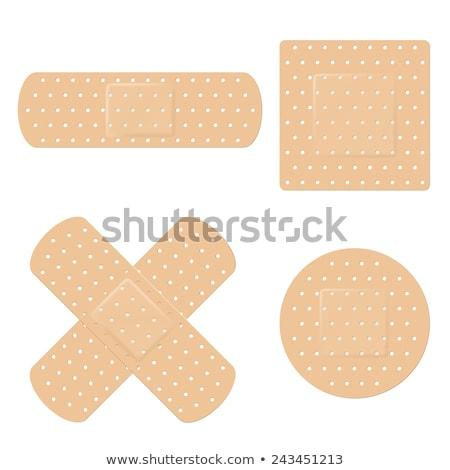bandage: (31, 215, 234, 423), (281, 247, 432, 399), (282, 38, 432, 191), (18, 72, 262, 147)
